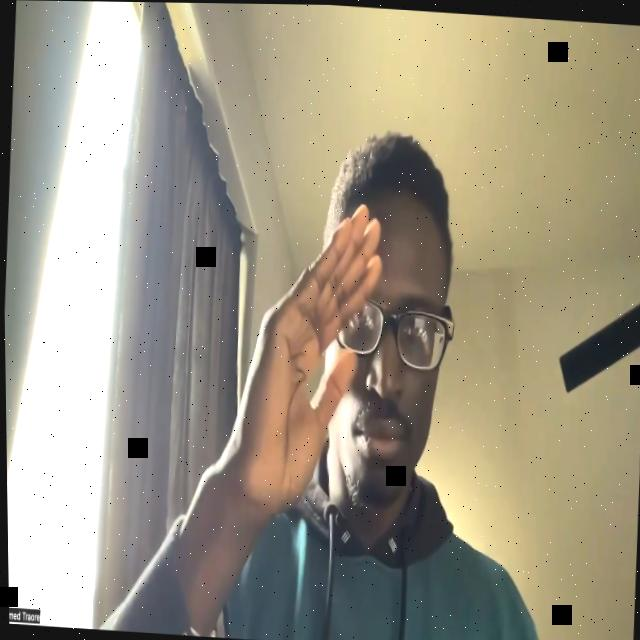Paper: (224, 192, 388, 520)
